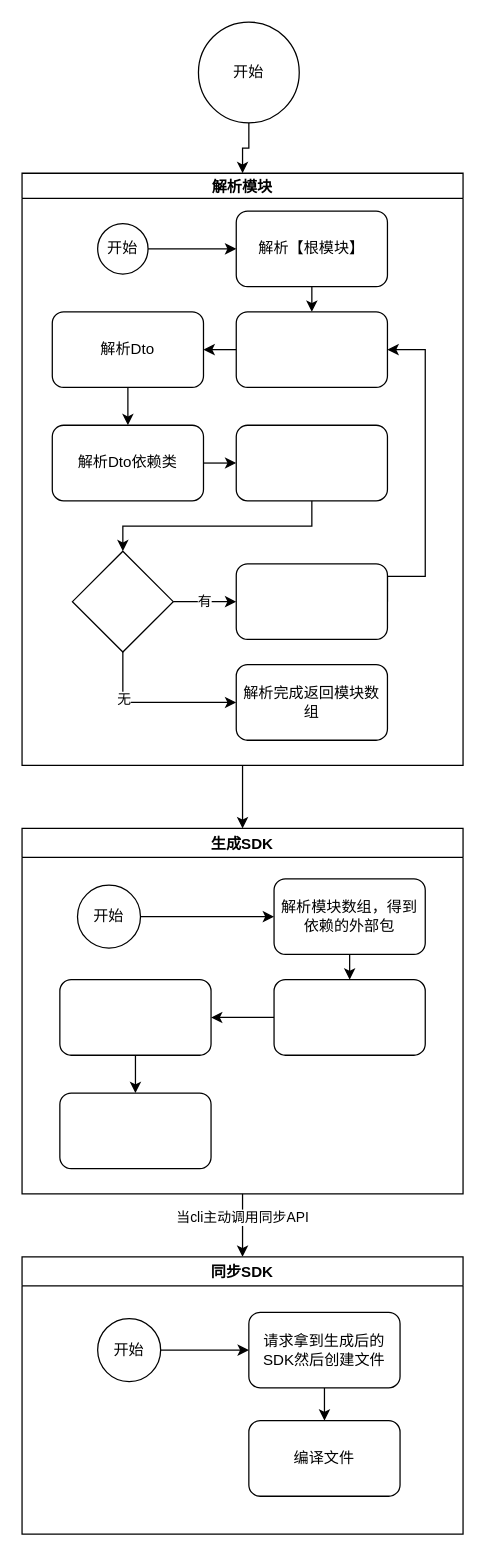
Image size: 485x1556. Some labels were removed from this diagram. The shapes that lost their labels are listed below. From the top down, each one's centre as x and y in pixels, then its label:
(x=311, y=349): 解析模块Controller
(x=311, y=462): 生成解析后的数据结构
(x=122, y=601): 有无子模块
(x=311, y=601): 解析子模块
(x=135, y=1016): 注入辅助依赖包
(x=349, y=1016): 注入导入包
(x=135, y=1130): 遍历对象生成SDK
